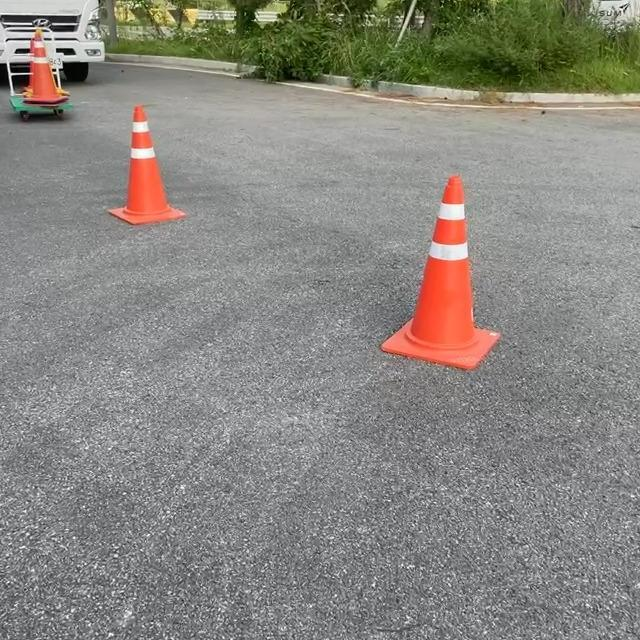fallen_object: (343, 159, 552, 425), (85, 85, 222, 276), (0, 7, 77, 128)
